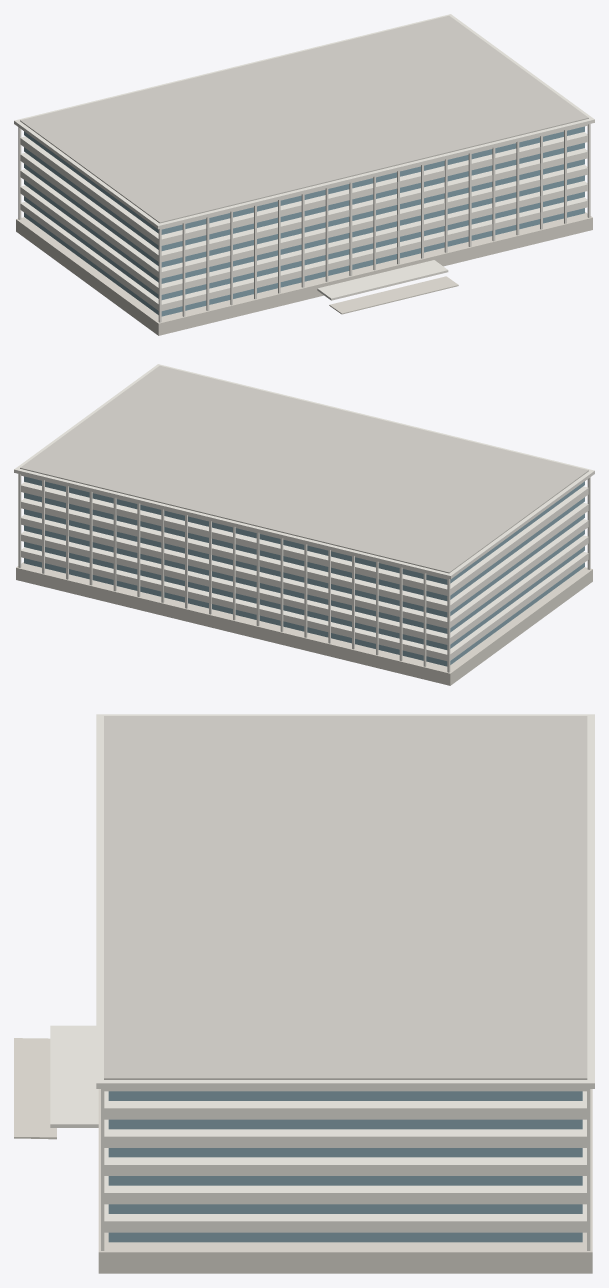
File: 文波楼.glb
3 renders of one model, top to bottom at view 1: azimuth 30°, elevation 25°; view 2: azimuth 150°, elevation 25°; view 3: azimuth 270°, elevation 25°, orthographic. The views are drawn at different scales.
Visible parts, largest first — view 1: 文波楼_roofDeck, 文波楼_trim, 文波楼_glass, 文波楼_stone; view 2: 文波楼_roofDeck, 文波楼_trim, 文波楼_glass, 文波楼_stone; view 3: 文波楼_roofDeck, 文波楼_trim, 文波楼_glass, 文波楼_stone.
Boxes of the visible parts, bbox=[...] form: 文波楼_roofDeck: bbox=[20, 15, 588, 223]; 文波楼_trim: bbox=[14, 14, 594, 322]; 文波楼_glass: bbox=[24, 126, 584, 316]; 文波楼_stone: bbox=[16, 212, 592, 335]; 文波楼_roofDeck: bbox=[20, 365, 588, 573]; 文波楼_trim: bbox=[14, 364, 594, 672]; 文波楼_glass: bbox=[24, 476, 584, 666]; 文波楼_stone: bbox=[16, 562, 592, 685]; 文波楼_roofDeck: bbox=[104, 716, 587, 1079]; 文波楼_trim: bbox=[50, 714, 594, 1250]; 文波楼_glass: bbox=[108, 1091, 582, 1242]; 文波楼_stone: bbox=[14, 1038, 592, 1273].
Bounding box in the file's own units: 112 × 27.35 × 74.55.
